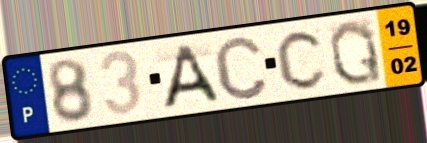3: (97, 47, 146, 119)
8: (46, 57, 95, 125)
A: (160, 41, 222, 111)
C: (211, 32, 271, 102), (274, 27, 330, 92)
Q: (327, 18, 386, 87)
